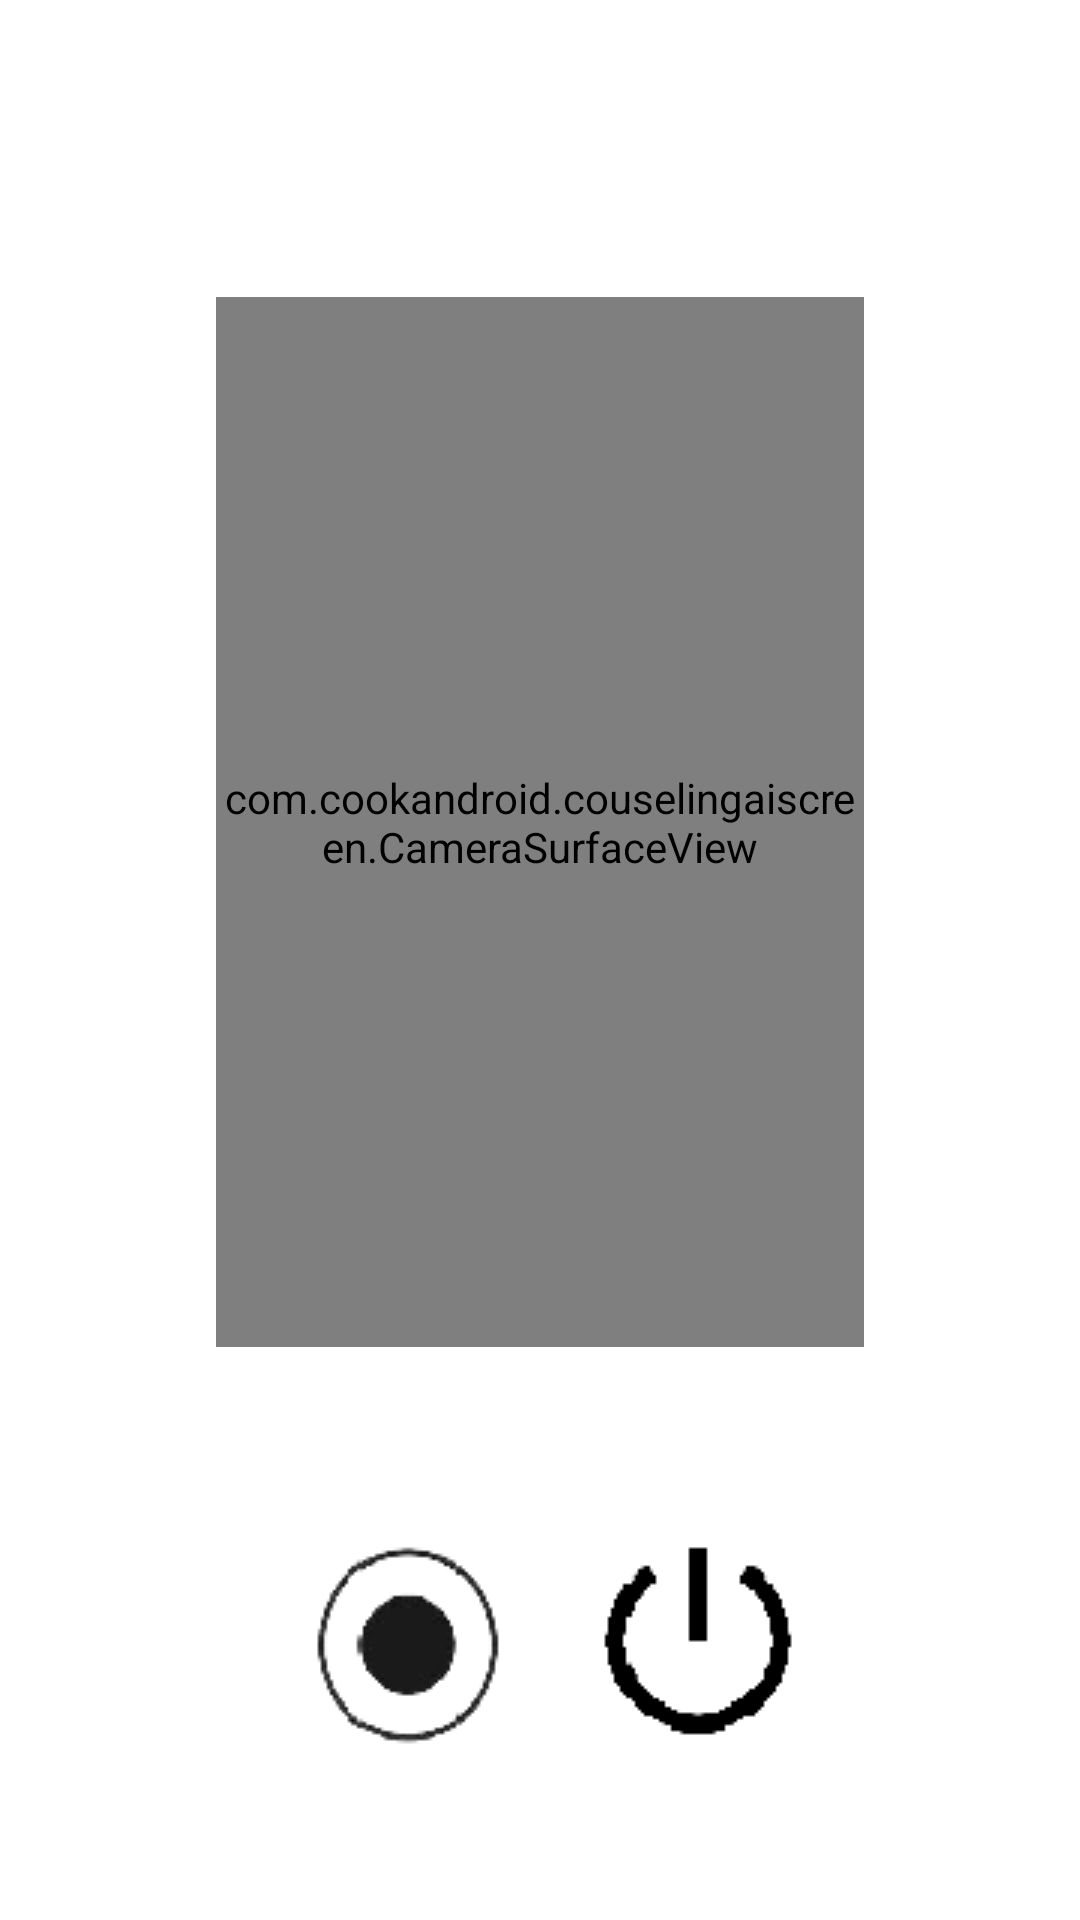

Icons on this 1080x1920 Android screen, each with its box as (x1, y1, x2, y2):
call stop: (604, 1547, 792, 1735)
recbtn: (317, 1547, 499, 1743)
